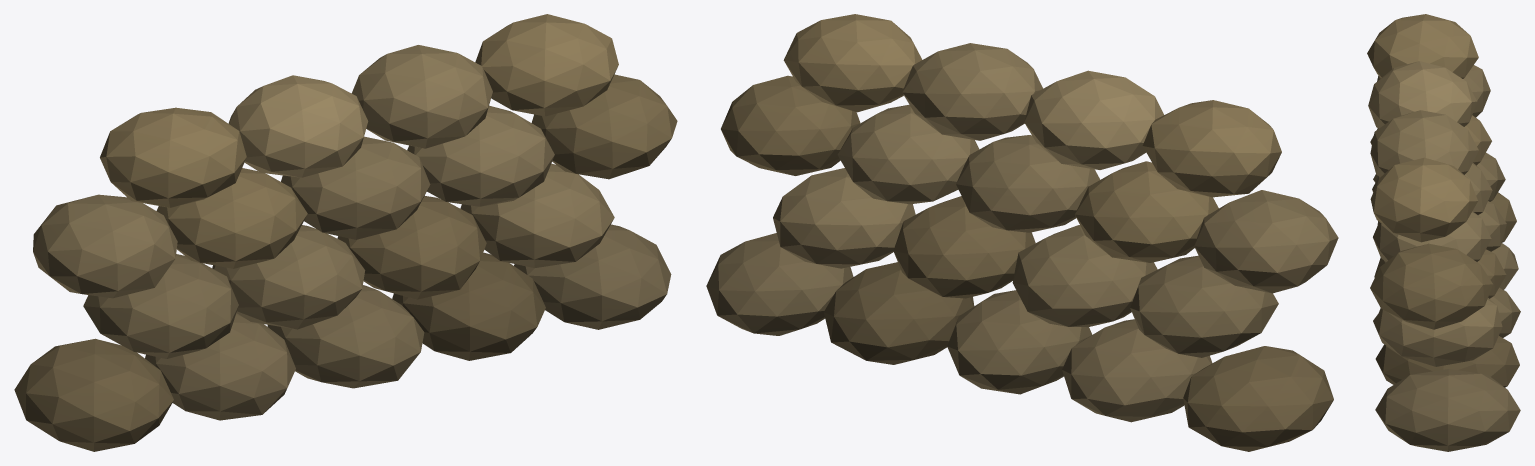
File: sandbag_wall.glb
The picture shows the model from 3 angles, left to right: view 1: azimuth 30°, elevation 25°; view 2: azimuth 150°, elevation 25°; view 3: azimuth 270°, elevation 25°; orthographic projection. The views are drawn at different scales.
Visible parts, largest first — view 1: sandbag_wall; view 2: sandbag_wall; view 3: sandbag_wall.
Boxes of the visible parts, x1=… form: sandbag_wall: x1=14, y1=14, x2=677, y2=451; sandbag_wall: x1=706, y1=14, x2=1338, y2=451; sandbag_wall: x1=1367, y1=14, x2=1520, y2=451.
Size of the model in its own units: 2.01 by 0.9892 by 0.54.
